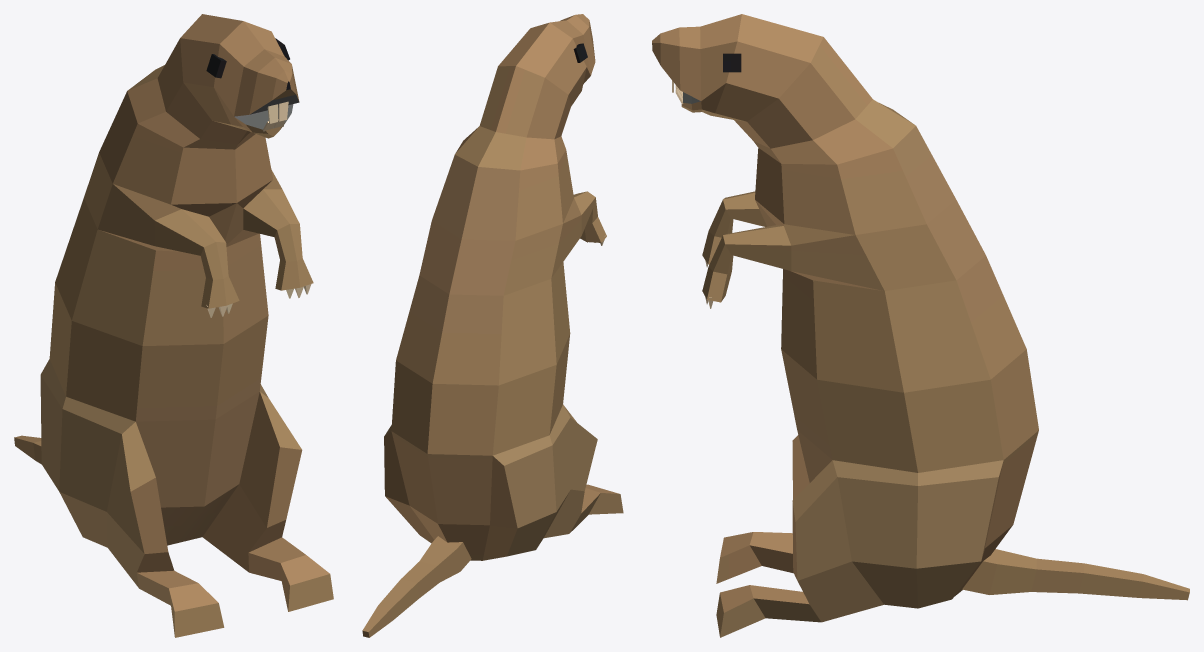
The model's file is 2IatILCJa3X.glb.
3 renders of one model, left to right at view 1: azimuth 30°, elevation 25°; view 2: azimuth 150°, elevation 25°; view 3: azimuth 270°, elevation 25°, orthographic. The views are drawn at different scales.
Visible parts, largest first — view 1: Geo_Gopher; view 2: Geo_Gopher; view 3: Geo_Gopher.
Part boxes in pixels (left/top/right/bottom): Geo_Gopher: left=14, top=14, right=333, bottom=637; Geo_Gopher: left=362, top=14, right=623, bottom=637; Geo_Gopher: left=652, top=14, right=1189, bottom=637.
Bounding box in the file's own units: 0.3412 × 1 × 0.8313.
Materials: 1 (1 with a texture image).
